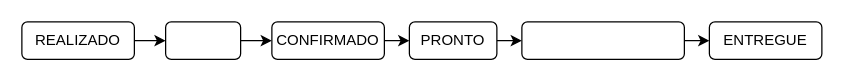
Some shapes in this 844 by 81 pixel diagram are drawn without their labels. Each missing label, with the box of its shape:
PAGO: (164, 21, 241, 59)
SAIU PARA ENTREGA: (521, 21, 684, 59)
